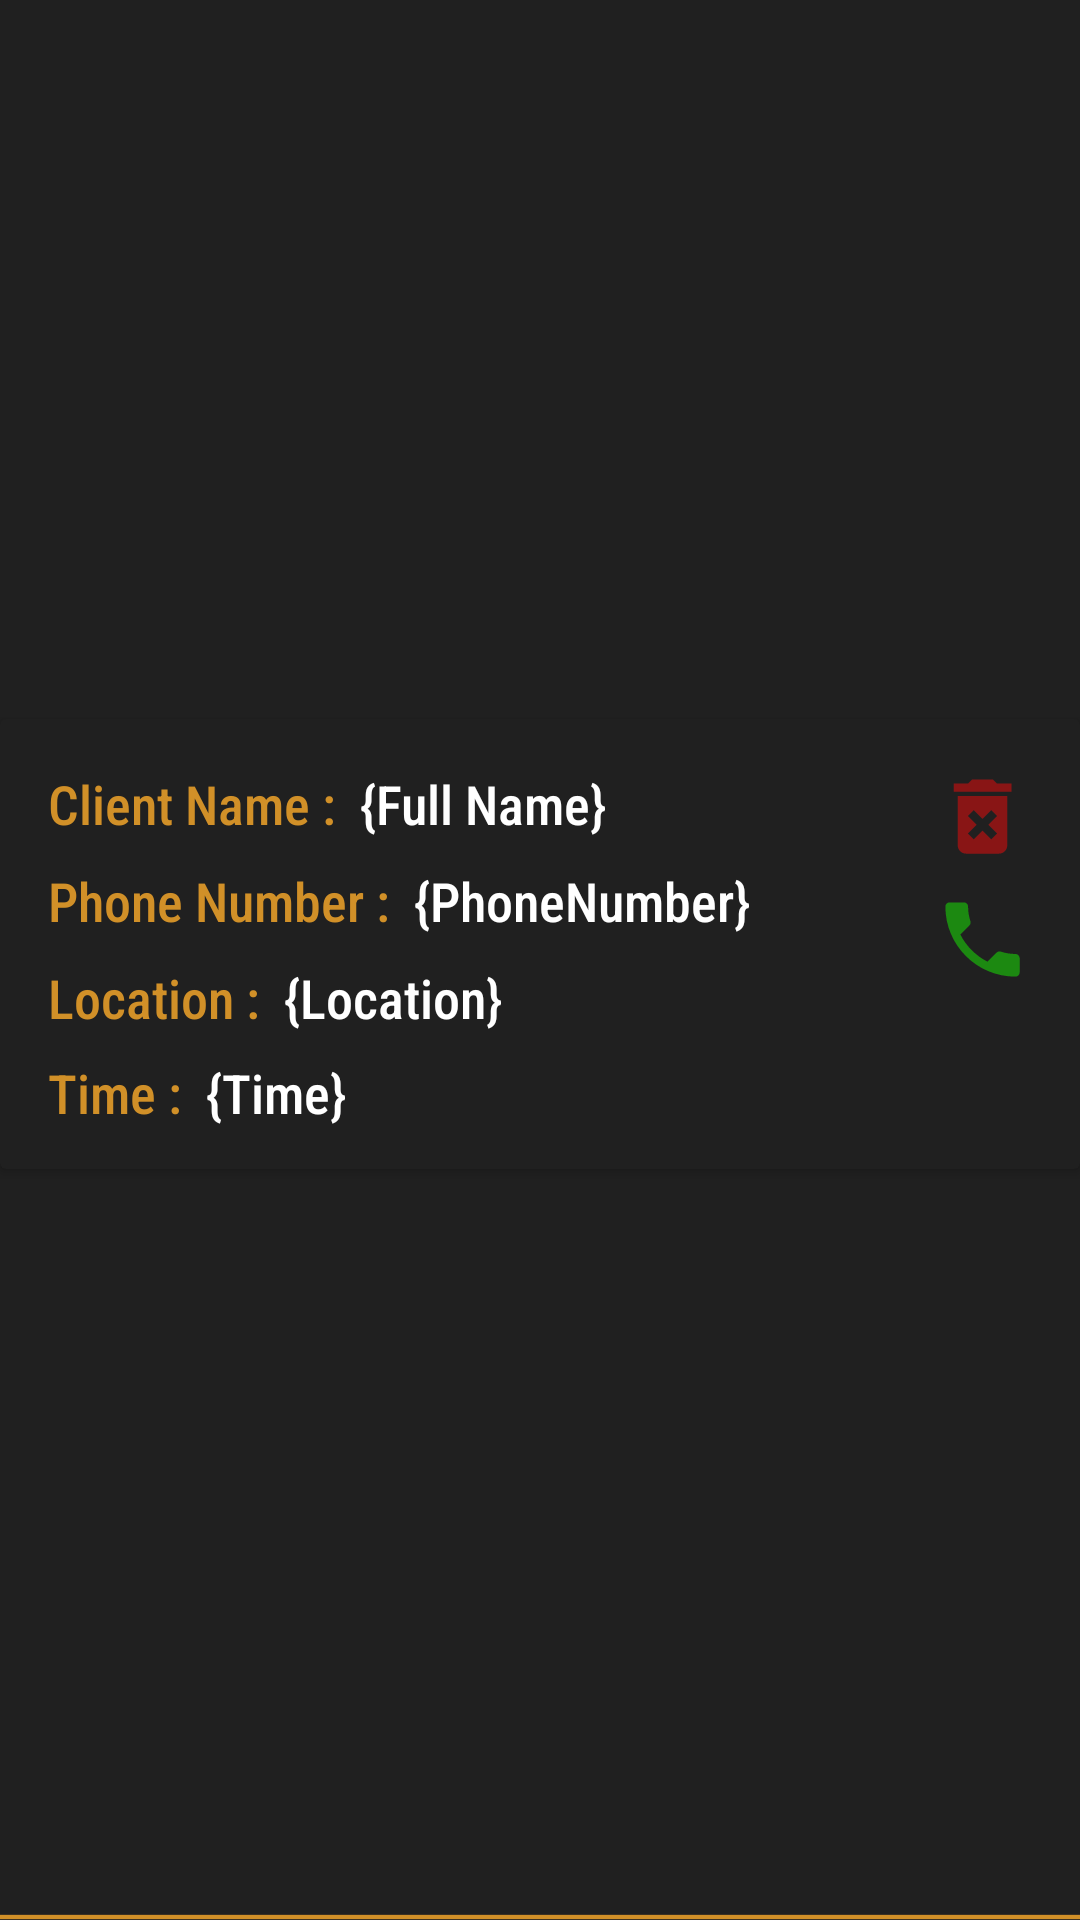

Named icons in this screenshot (1080px×1920px) and their bounding boxes, (x1, y1, x2, y2):
delete forever: (953, 779, 1012, 854)
local phone: (945, 902, 1020, 977)
